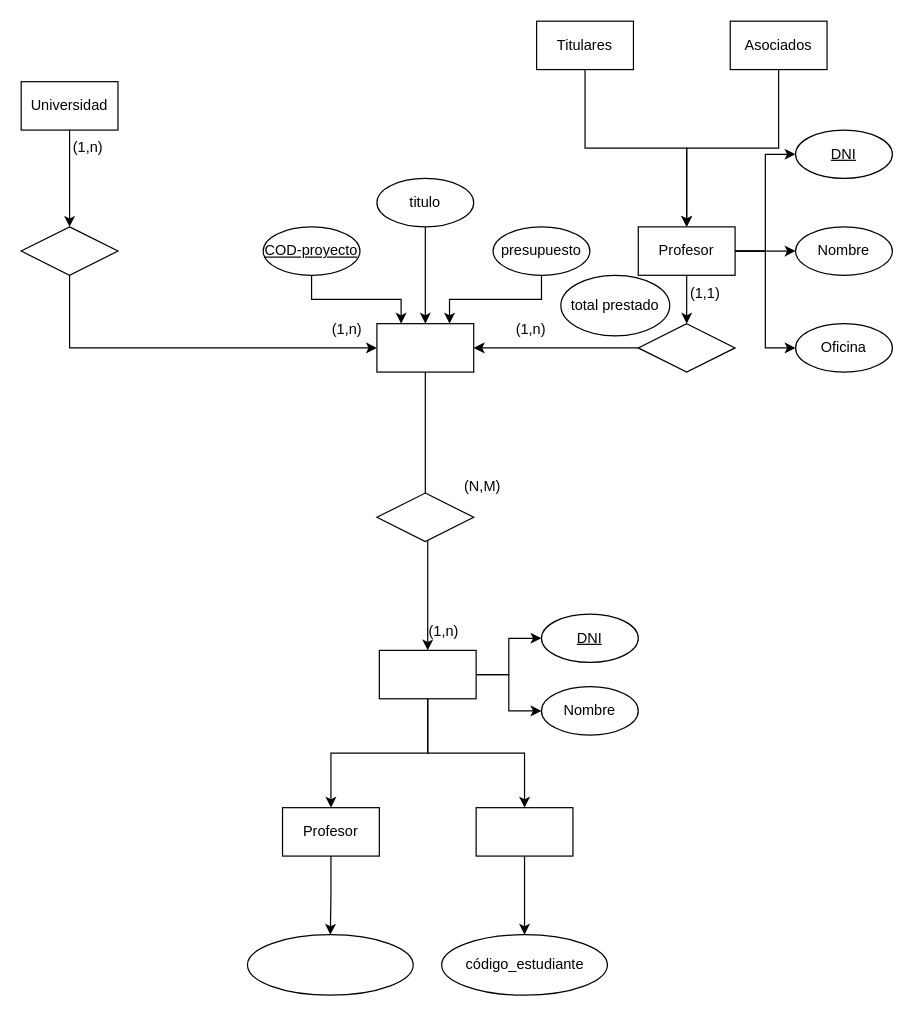
This 914x1016 diagram has some shape labels left out. Here are the shapes that lost their labels. From the top down, the box of each, then its label:
(20, 226, 118, 275): Gestiona
(376, 322, 474, 372): Proyectos
(637, 322, 735, 372): Dirige
(376, 492, 474, 541): Participa
(378, 649, 476, 699): Investigador
(475, 806, 573, 856): Estudiante doctorado
(246, 934, 413, 995): fecha_inicio_doctorado
